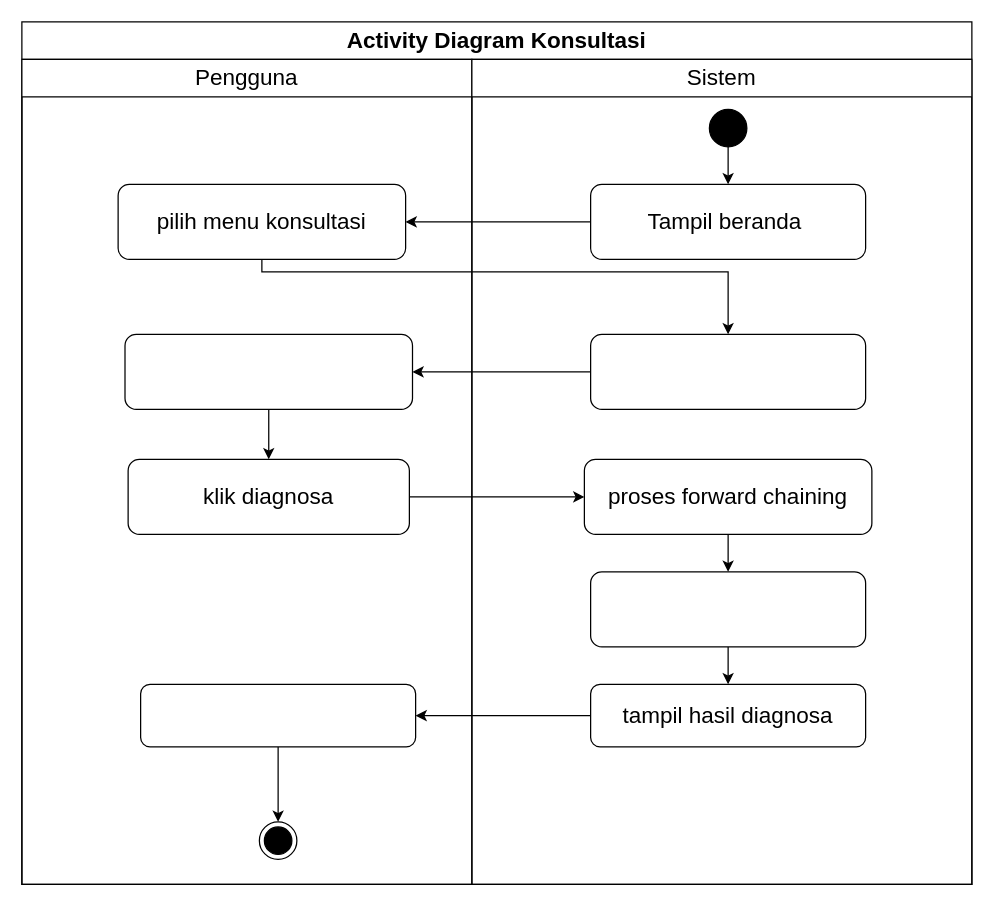
Some shapes in this 994 by 906 pixel diagram are drawn without their labels. Here are the shapes that lost their labels. From the top down, the centre of each, then its label:
At point (268, 371): "pilih gejala yang dialami".
At point (727, 371): "tampil form konsultasi".
At point (727, 609): "simpan hasil diagnosa".
At point (277, 715): "diagnosa ulang".
